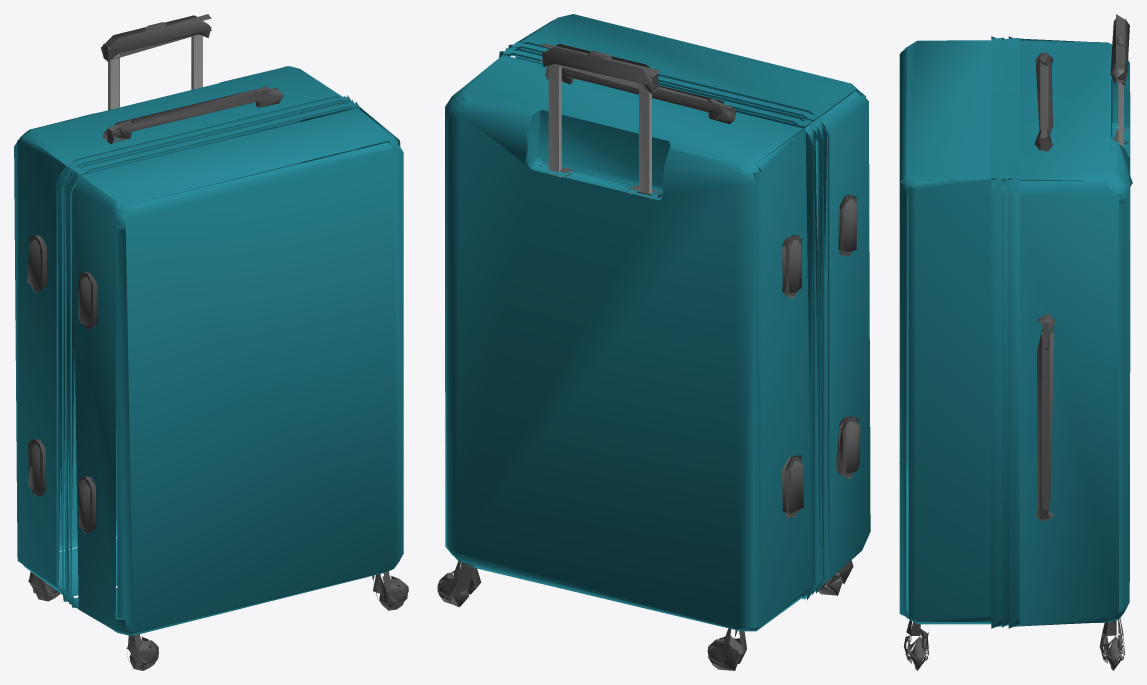
The picture shows the model from 3 angles, left to right: view 1: azimuth 30°, elevation 25°; view 2: azimuth 150°, elevation 25°; view 3: azimuth 270°, elevation 25°; orthographic projection. The views are drawn at different scales.
Parts seen in each view (by area): view 1: Mesh_0.009, Mesh_1.006, Mesh_2.004, Mesh_3.002; view 2: Mesh_0.009, Mesh_1.006, Mesh_3.002, Mesh_2.004; view 3: Mesh_0.009, Mesh_1.006, Mesh_2.004, Mesh_3.002.
Part boxes in pixels (x1,y1,x2,y2): Mesh_0.009: (14,66,403,635); Mesh_1.006: (27,14,408,670); Mesh_2.004: (28,572,407,666); Mesh_3.002: (108,34,202,138); Mesh_0.009: (445,14,870,631); Mesh_1.006: (437,43,860,670); Mesh_3.002: (548,64,651,198); Mesh_2.004: (437,163,853,668); Mesh_0.009: (899,36,1132,628); Mesh_1.006: (909,14,1129,670); Mesh_2.004: (903,128,1128,663); Mesh_3.002: (1118,69,1123,147).
Size of the model in its own units: 45.48 by 74.74 by 28.16.
